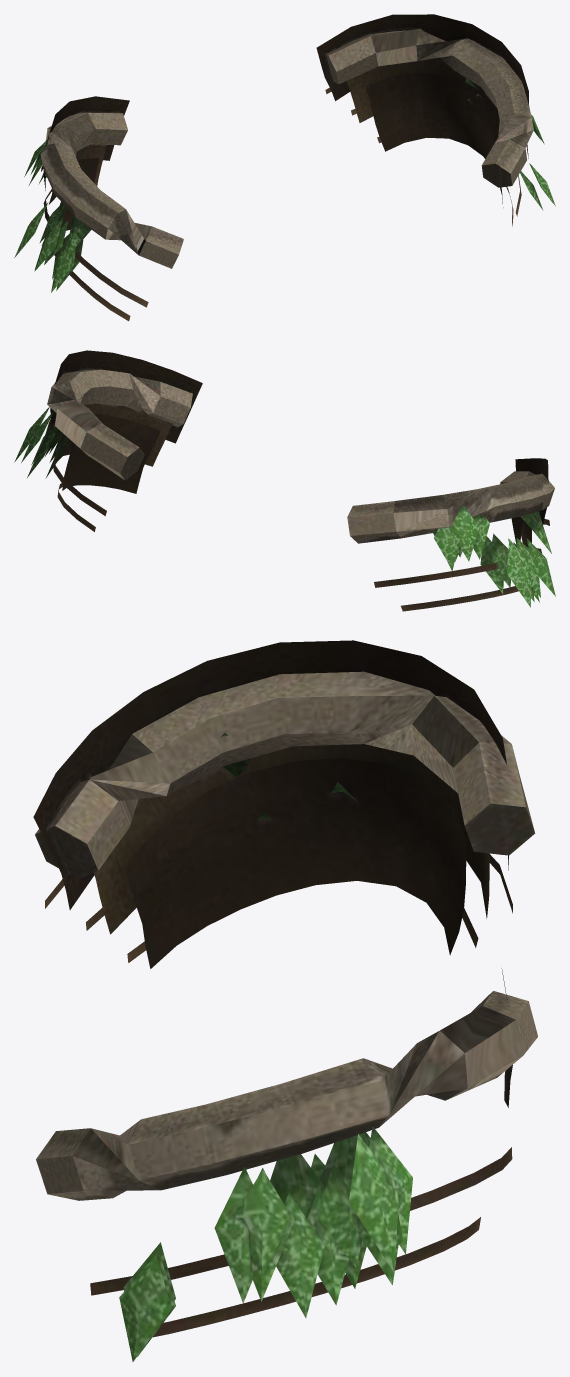
The model's file is Ombreiras_de_Couro_nivel100.glb.
3 renders of one model, top to bottom at view 1: azimuth 30°, elevation 25°; view 2: azimuth 150°, elevation 25°; view 3: azimuth 270°, elevation 25°, orthographic. The views are drawn at different scales.
Visible parts, largest first — view 1: ombreiras_de_couro_nivel100; view 2: ombreiras_de_couro_nivel100; view 3: ombreiras_de_couro_nivel100.
Part boxes in pixels (x1,y1,x2,y2): ombreiras_de_couro_nivel100: (14, 14, 555, 321); ombreiras_de_couro_nivel100: (14, 350, 555, 611); ombreiras_de_couro_nivel100: (33, 640, 537, 1361).
Size of the model in its own units: 0.6867 by 0.2103 by 0.3003.
1 material, 1 textured.
